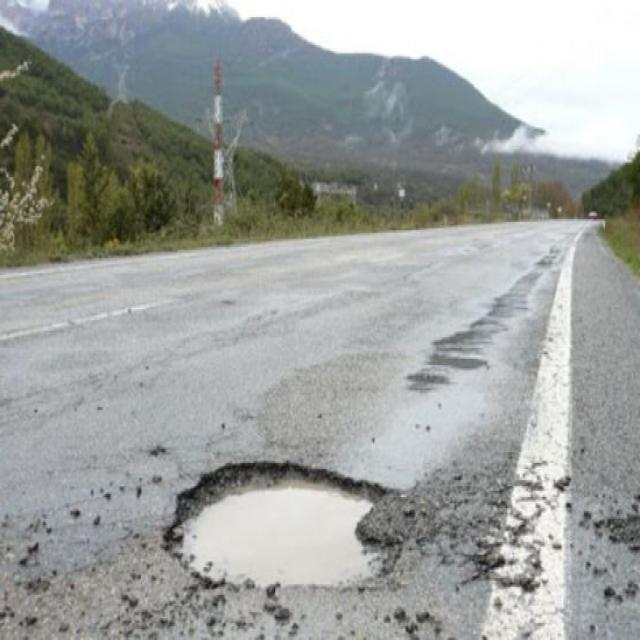Pothole: (162, 453, 411, 604)
